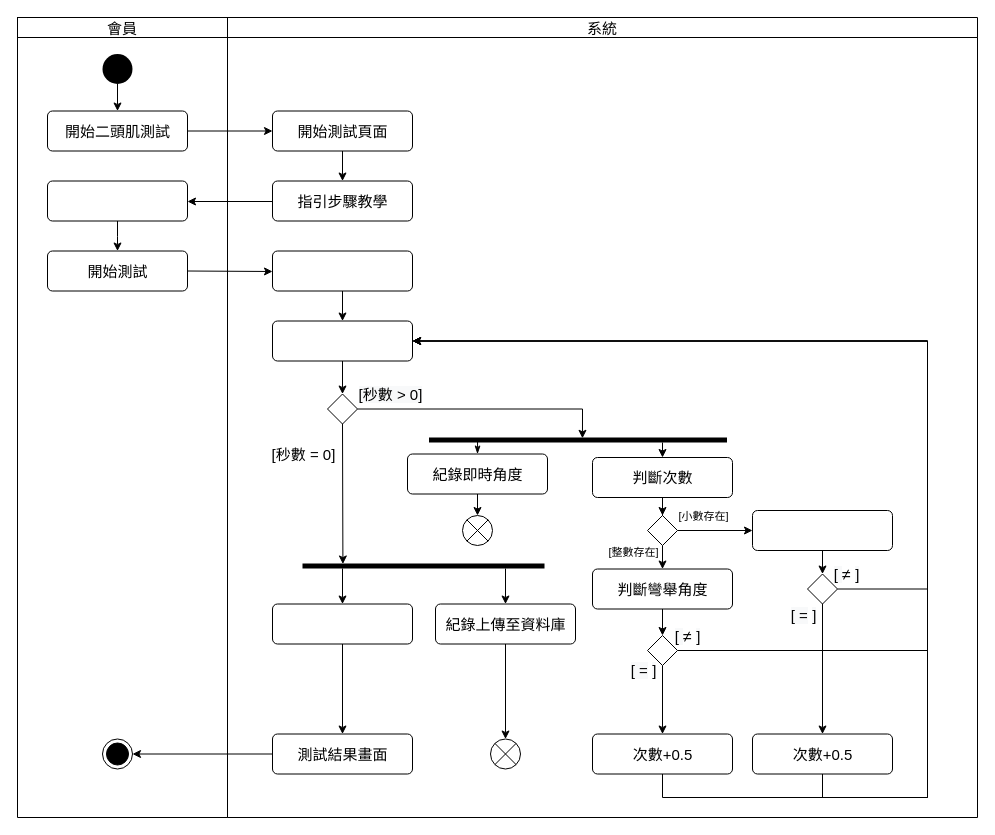
Image size: 995x835. Some labels were removed from this diagram. Here are the shapes that lost their labels. From the top down, the centre of each, then its label:
At pixel 117 200: "按下完成準備".
At pixel 342 270: "計時剩餘秒數".
At pixel 342 340: "判斷剩餘秒數".
At pixel 822 530: "判斷放下角度".
At pixel 342 623: "結束音效".
